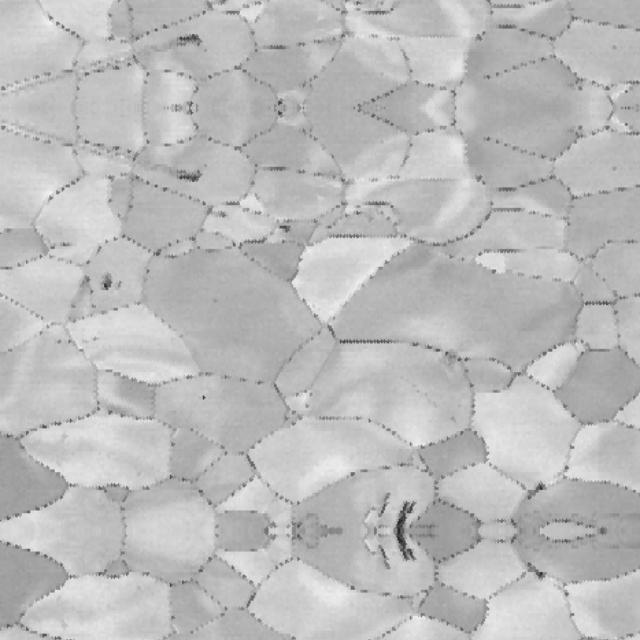good_void: (393, 497, 419, 532), (393, 532, 419, 567), (168, 167, 205, 188), (168, 29, 205, 50), (272, 213, 296, 239), (98, 271, 122, 292), (525, 482, 547, 502), (525, 562, 547, 582), (376, 494, 391, 521), (376, 543, 391, 570), (469, 173, 488, 187), (469, 30, 488, 44), (210, 209, 230, 222), (210, 0, 230, 8), (87, 335, 102, 345), (609, 164, 620, 174), (609, 43, 620, 53), (447, 416, 459, 425), (211, 297, 221, 307), (200, 393, 209, 402)
